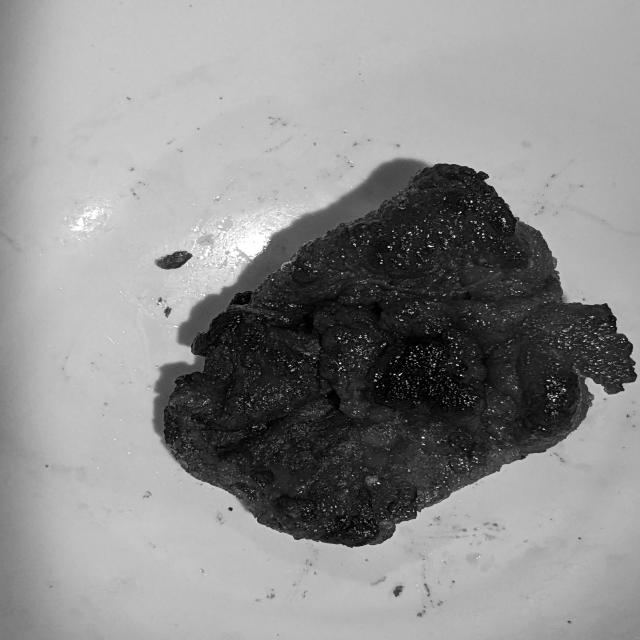overcooked pork: (147, 152, 640, 555)
